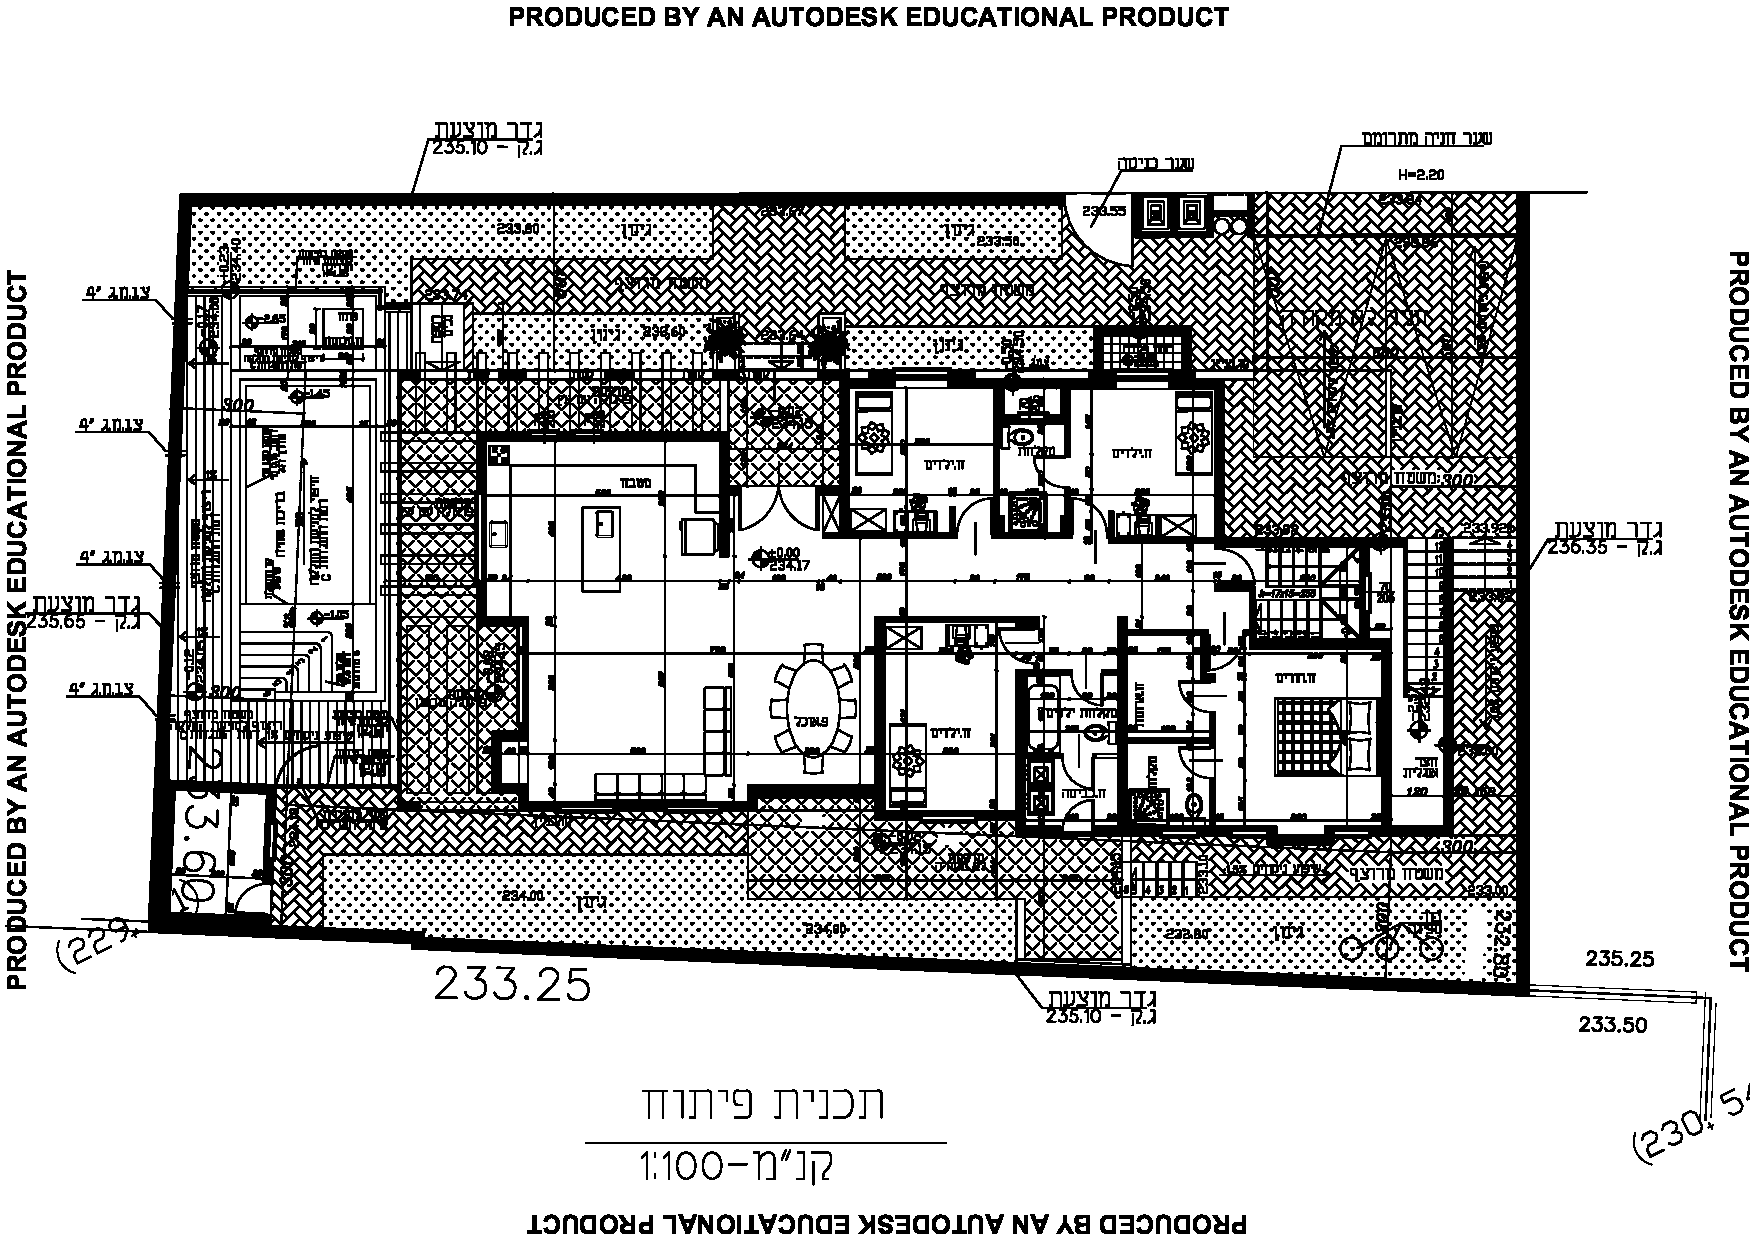door: (777, 483, 824, 535), (741, 487, 777, 538)
wall: (183, 195, 1047, 207), (519, 800, 756, 811), (875, 619, 886, 823), (839, 370, 849, 539), (990, 377, 1001, 538), (1213, 381, 1224, 542), (722, 433, 730, 556)
